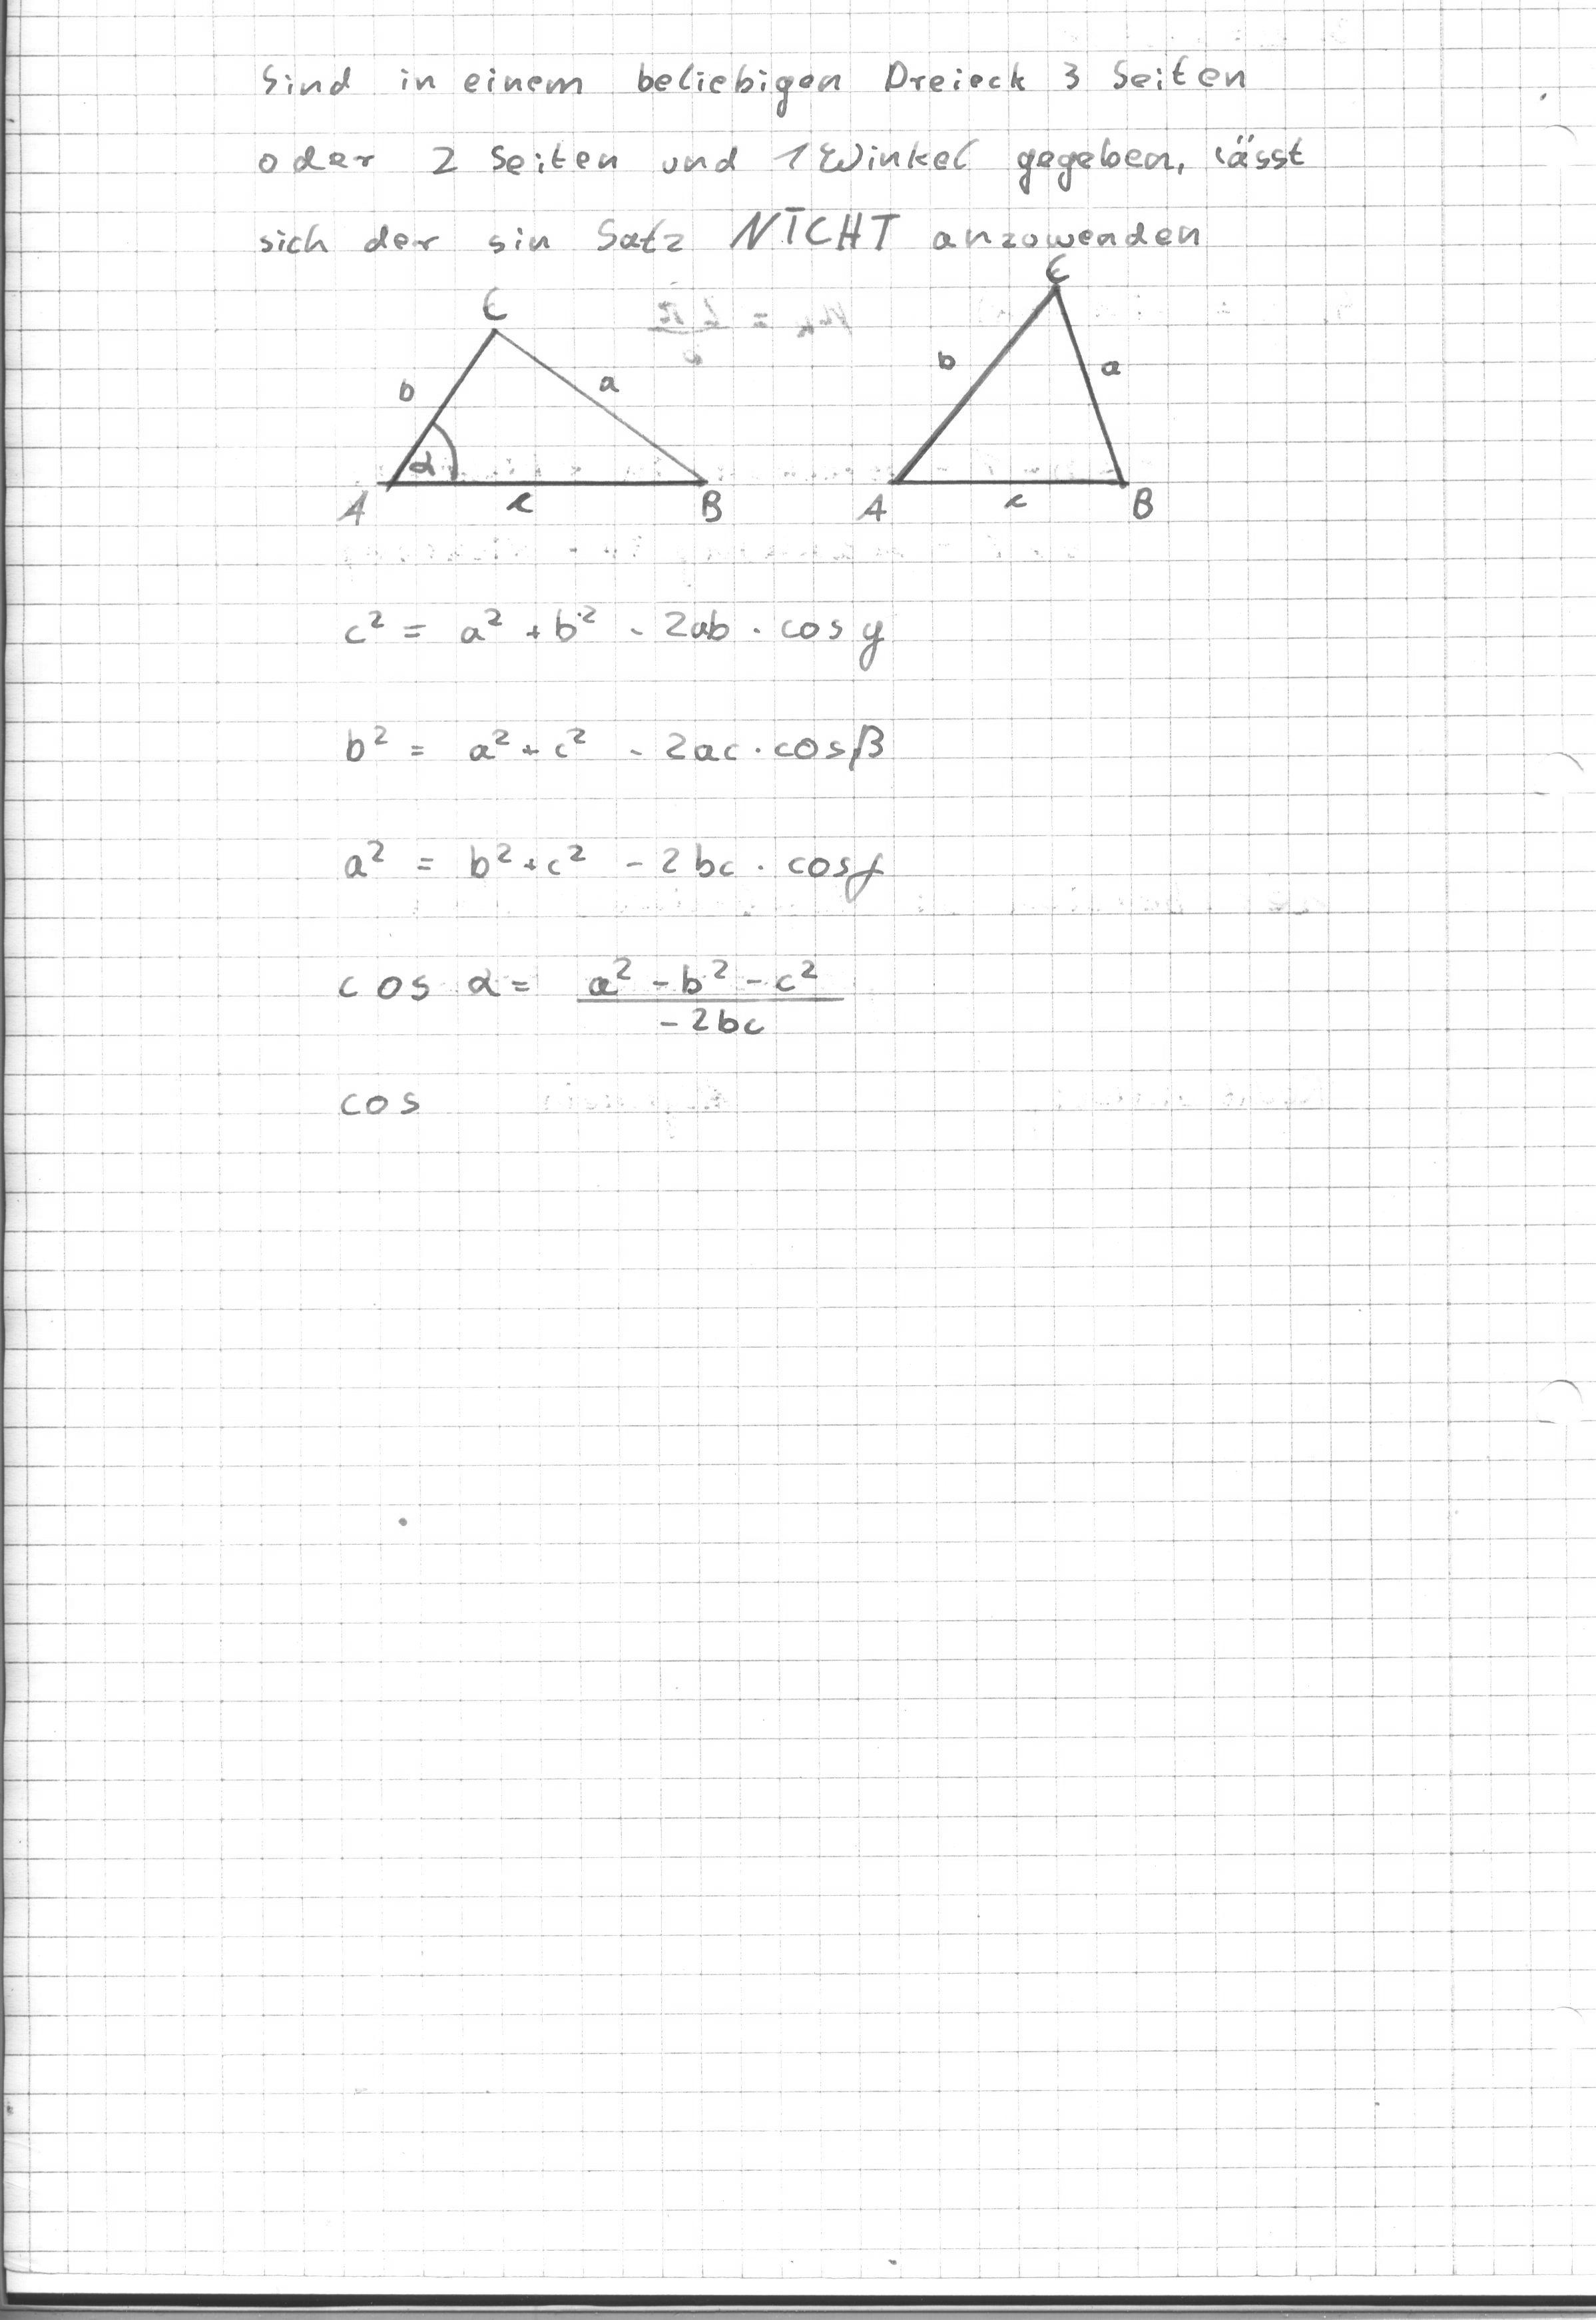word: (244, 41, 1314, 274), (329, 579, 906, 924), (304, 940, 851, 1164)
